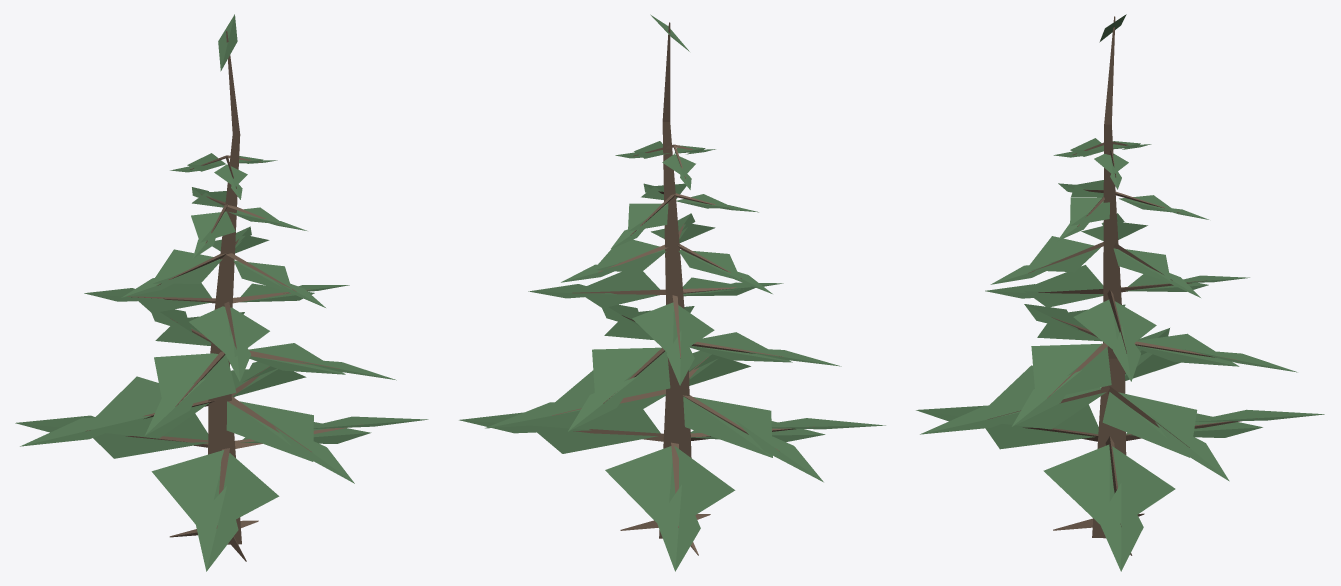
Rendered from hemlock-lod2.glb.
3 renders of one model, left to right at view 1: azimuth 30°, elevation 25°; view 2: azimuth 150°, elevation 25°; view 3: azimuth 270°, elevation 25°, orthographic. The views are drawn at different scales.
Parts seen in each view (by area): view 1: tree_hemlock_LOD2; view 2: tree_hemlock_LOD2; view 3: tree_hemlock_LOD2.
Part boxes in pixels (box(x1,y1,x2,y2)): tree_hemlock_LOD2: box(15, 14, 428, 571); tree_hemlock_LOD2: box(459, 14, 885, 571); tree_hemlock_LOD2: box(916, 14, 1324, 571).
Size of the model in its own units: 10.77 by 13.75 by 9.69.
